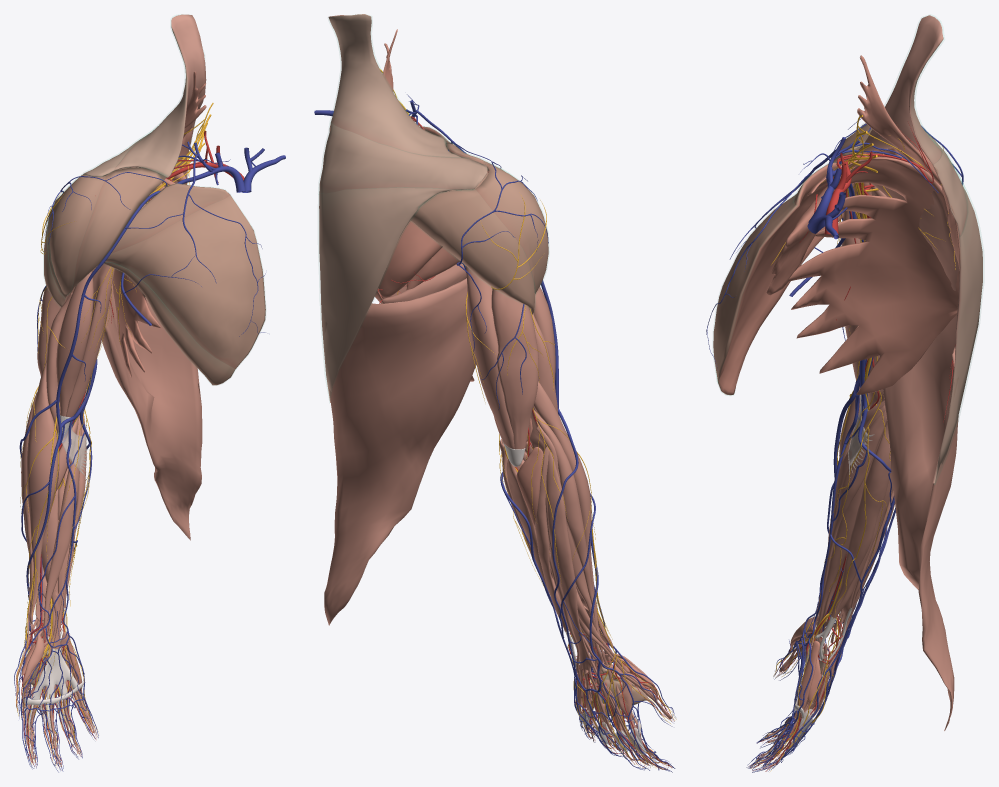
File: upper-limb.glb
3 views of the same model, side by side, from view 1: azimuth 30°, elevation 25°; view 2: azimuth 150°, elevation 25°; view 3: azimuth 270°, elevation 25° (orthographic). The views are drawn at different scales.
Parts seen in each view (by area): view 1: Pectoralis major.r, Latissimus dorsi.r, Deltoid muscle.r, Trapezius muscle.r, Brachioradialis muscle.r, Long head of biceps brachii.r, Serratus anterior muscle.r, Short head of biceps brachii.r, Flexor carpi radialis.r, Superficial veins of upper limb.r, Arm superficial vein-Cephalic vein.r, Flexor digitorum superficialis humero-ulnar head.r (+18 smaller); view 2: Latissimus dorsi.r, Trapezius muscle.r, Deltoid muscle.r, Lateral head of triceps brachii.r, Extensor digitorum.r, Long head of triceps brachii.r, Superficial veins of upper limb.r, Infraspinatus muscle.r, Extensor carpi radialis longus.r, Brachioradialis muscle.r, Humeral head of extensor carpi ulnaris.r, Brachialis muscle.r (+11 smaller); view 3: Serratus anterior muscle.r, Latissimus dorsi.r, Trapezius muscle.r, Pectoralis major.r, Humeral head of flexor carpi ulnaris.r, Subscapularis muscle.r, Levator scapulae.r, Palmaris longus muscle.r, Pectoralis minor muscle.r, Flexor digitorum superficialis humero-ulnar head.r, Superficial veins of upper limb.r, External jugular vein.r (+14 smaller).
Part boxes in pixels (<box>): Pectoralis major.r: <box>104,183,265,385</box>; Latissimus dorsi.r: <box>102,284,202,540</box>; Deltoid muscle.r: <box>44,167,166,307</box>; Trapezius muscle.r: <box>83,14,206,184</box>; Brachioradialis muscle.r: <box>27,361,59,623</box>; Long head of biceps brachii.r: <box>56,271,93,416</box>; Serratus anterior muscle.r: <box>112,166,186,377</box>; Short head of biceps brachii.r: <box>66,263,114,417</box>; Flexor carpi radialis.r: <box>43,415,81,650</box>; Superficial veins of upper limb.r: <box>19,172,167,616</box>; Arm superficial vein-Cephalic vein.r: <box>26,191,160,599</box>; Flexor digitorum superficialis humero-ulnar head.r: <box>30,459,88,746</box>; Latissimus dorsi.r: <box>322,278,476,625</box>; Trapezius muscle.r: <box>319,14,487,402</box>; Deltoid muscle.r: <box>411,140,548,314</box>; Lateral head of triceps brachii.r: <box>491,288,538,449</box>; Extensor digitorum.r: <box>546,446,652,762</box>; Long head of triceps brachii.r: <box>465,265,514,448</box>; Superficial veins of upper limb.r: <box>448,142,605,652</box>; Infraspinatus muscle.r: <box>378,220,442,297</box>; Extensor carpi radialis longus.r: <box>533,410,613,684</box>; Brachioradialis muscle.r: <box>533,381,613,648</box>; Humeral head of extensor carpi ulnaris.r: <box>535,447,566,631</box>; Brachialis muscle.r: <box>530,313,557,453</box>; Serratus anterior muscle.r: <box>788,156,959,394</box>; Latissimus dorsi.r: <box>879,315,958,730</box>; Trapezius muscle.r: <box>842,15,982,483</box>; Pectoralis major.r: <box>713,162,844,395</box>; Humeral head of flexor carpi ulnaris.r: <box>831,420,890,617</box>; Subscapularis muscle.r: <box>862,155,959,290</box>; Levator scapulae.r: <box>857,55,941,186</box>; Palmaris longus muscle.r: <box>810,410,886,643</box>; Pectoralis minor muscle.r: <box>766,155,862,295</box>; Flexor digitorum superficialis humero-ulnar head.r: <box>776,428,884,750</box>; Superficial veins of upper limb.r: <box>818,118,963,627</box>; External jugular vein.r: <box>706,137,938,363</box>.
Size of the model in its own units: 0.4064 by 0.8839 by 0.2562.
